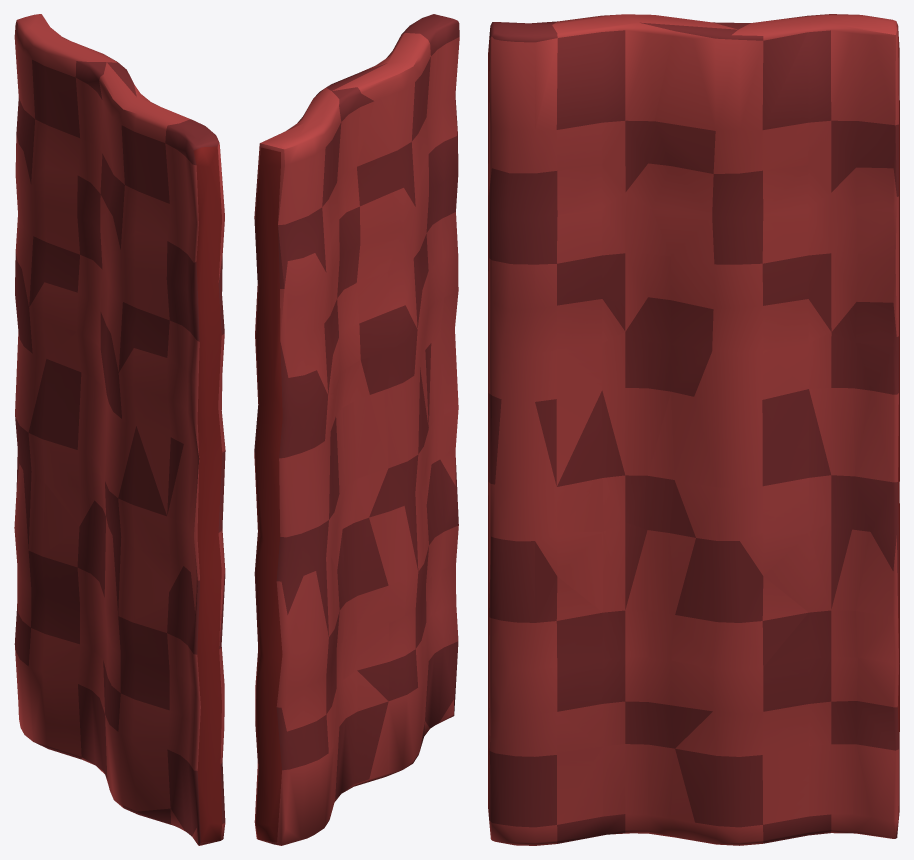
Rendered from den_duvet_drape_lod1.glb.
The picture shows the model from 3 angles, left to right: view 1: azimuth 30°, elevation 25°; view 2: azimuth 150°, elevation 25°; view 3: azimuth 270°, elevation 25°; orthographic projection. The views are drawn at different scales.
Visible parts, largest first — view 1: den_duvet_drape.001; view 2: den_duvet_drape.001; view 3: den_duvet_drape.001.
Part boxes in pixels (x1,y1,x2,y2): den_duvet_drape.001: (14,14,225,845); den_duvet_drape.001: (254,14,459,845); den_duvet_drape.001: (488,14,899,845).
Bounding box in the file's own units: 4.44 × 52 × 23.99.
